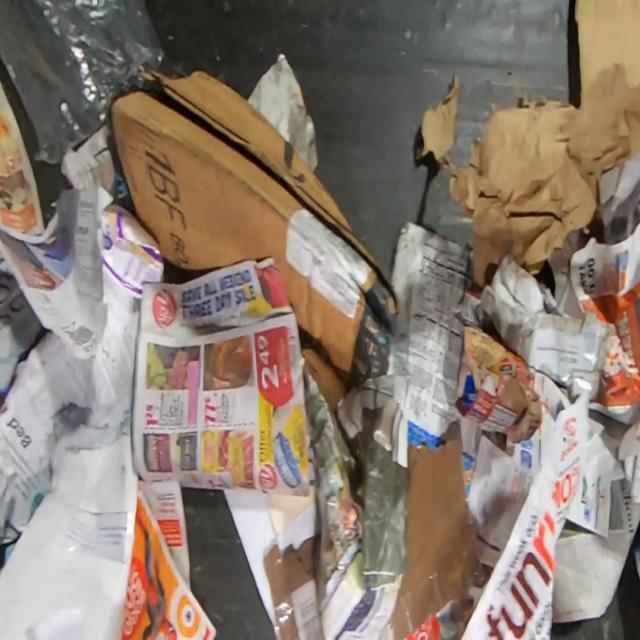cardboard: (110, 68, 400, 412), (360, 218, 486, 498), (390, 439, 486, 640), (454, 326, 542, 444), (96, 185, 164, 312), (264, 536, 324, 640)
